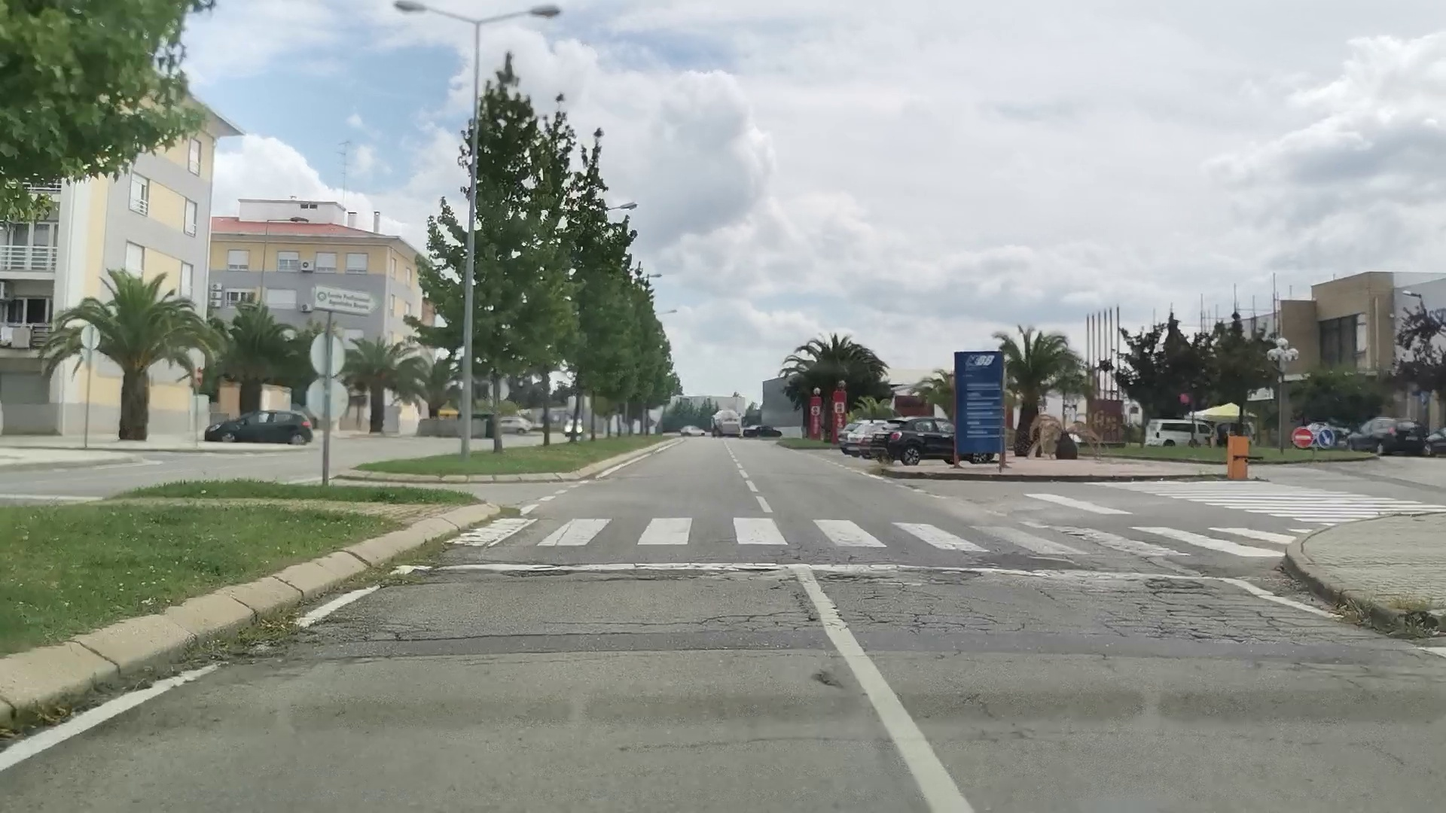Stairs: (449, 518, 1298, 552), (1090, 478, 1442, 513)
